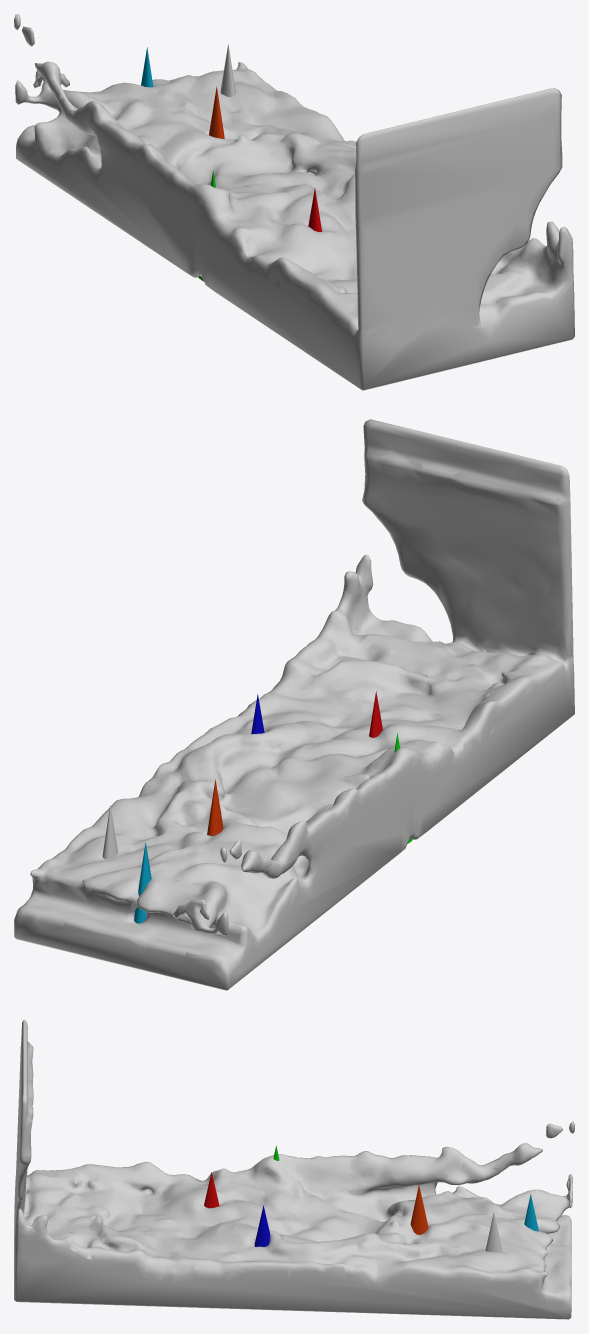
3 views of the same model, one above another, from view 1: azimuth 30°, elevation 25°; view 2: azimuth 150°, elevation 25°; view 3: azimuth 270°, elevation 25° (orthographic). The views are drawn at different scales.
Parts seen in each view (by area): view 1: Liquid_Domain; view 2: Liquid_Domain; view 3: Liquid_Domain, 円錐.004, 円錐.002, 円錐.
Part boxes in pixels (bbox=[...]): Liquid_Domain: bbox=[14, 14, 574, 390]; Liquid_Domain: bbox=[14, 419, 574, 990]; Liquid_Domain: bbox=[14, 1020, 574, 1319]; 円錐.004: bbox=[410, 1184, 428, 1234]; 円錐.002: bbox=[254, 1205, 270, 1246]; 円錐: bbox=[485, 1212, 502, 1252].
Bounding box in the file's own units: 129 × 158 × 363.
